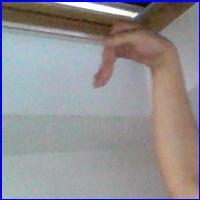del: (89, 19, 176, 94)
